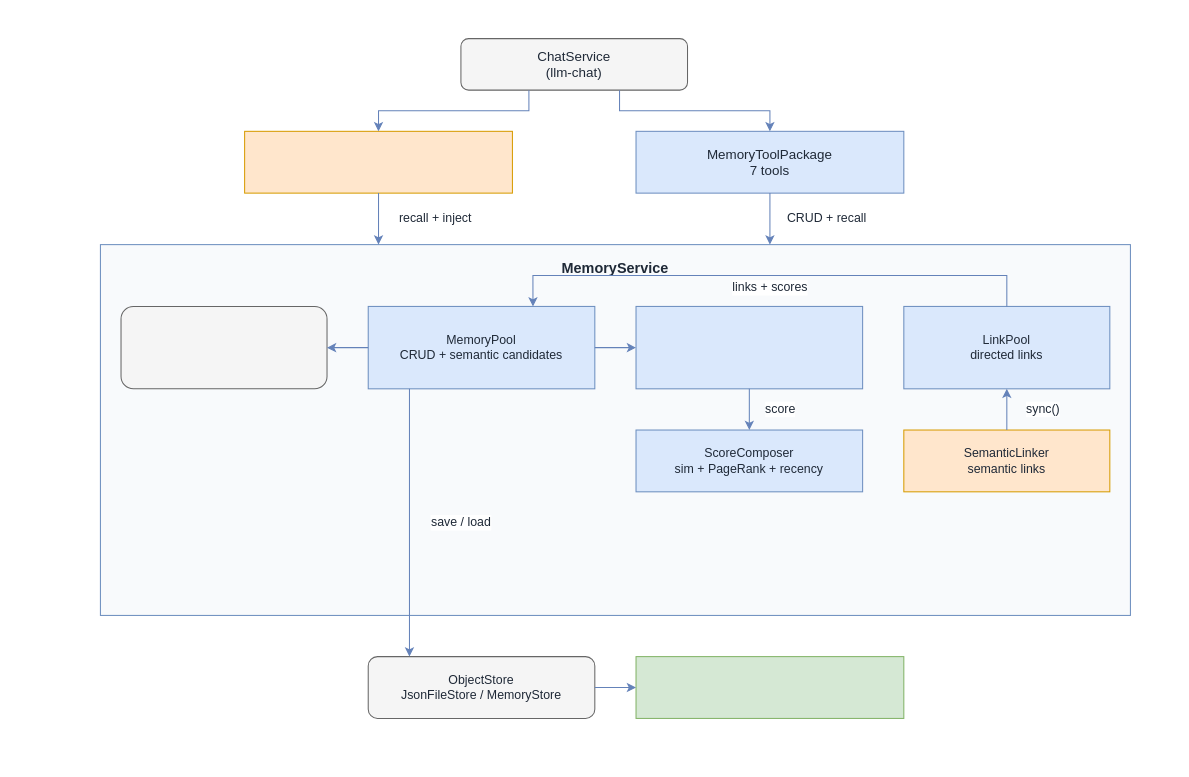
Image size: 1189x777. Some labels were removed from this diagram. The centre of each missing label's shape, as x and y in pixels:
memories/*.json one JSON file per memory: the point at 769,687
MemoryHook passive recall: the point at 378,161
SelectionStrategy MMR / weighted random: the point at 749,347
TextEmbeddingProvider encode(): the point at 223,347
